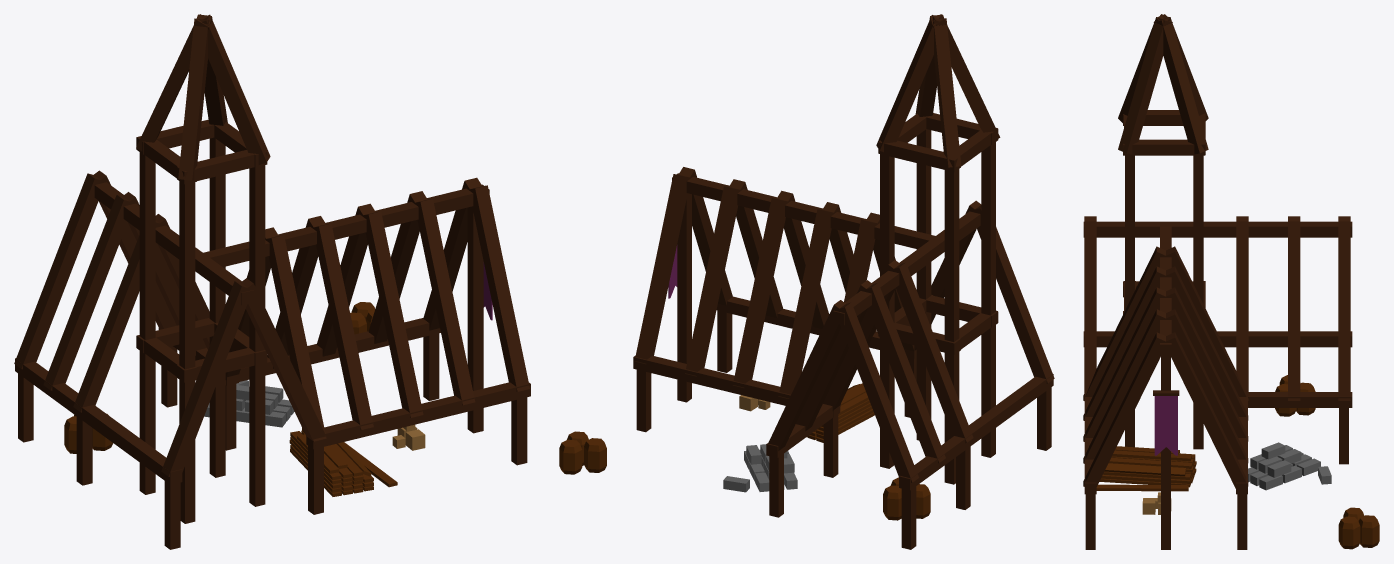
File: HospitalBuildPhase2v1.fbx
3 views of the same model, side by side, from view 1: azimuth 30°, elevation 25°; view 2: azimuth 150°, elevation 25°; view 3: azimuth 270°, elevation 25° (orthographic). The views are drawn at different scales.
Visible parts, largest first — view 1: Cube.3643; view 2: Cube.3643; view 3: Cube.3643.
Part boxes in pixels (bbox=[...]): Cube.3643: bbox=[14, 14, 530, 549]; Cube.3643: bbox=[559, 14, 1054, 549]; Cube.3643: bbox=[1083, 14, 1379, 549].
Bounding box in the file's own units: 249 × 306 × 198.
